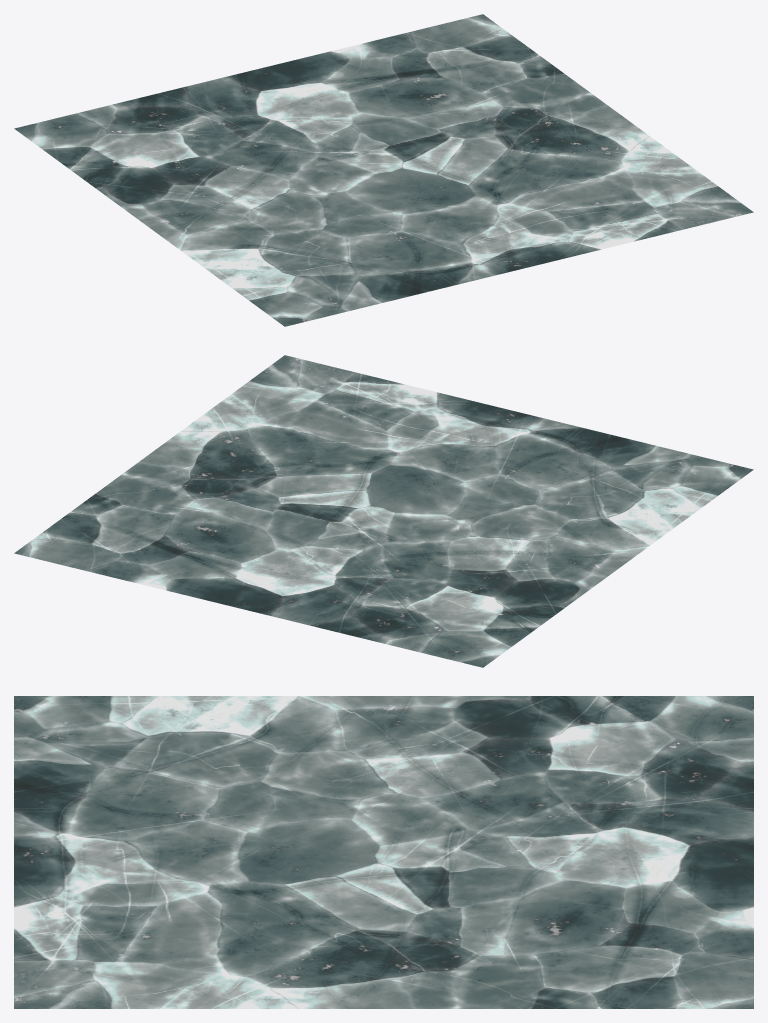
Rendered from wave.obj.
3 views of the same model, one above another, from view 1: azimuth 30°, elevation 25°; view 2: azimuth 150°, elevation 25°; view 3: azimuth 270°, elevation 25° (orthographic). The views are drawn at different scales.
Visible parts, largest first — view 1: ground; view 2: ground; view 3: ground.
Part boxes in pixels (box(x1,y1,x2,y2)): ground: box(14, 14, 753, 326); ground: box(14, 355, 753, 667); ground: box(14, 696, 753, 1008).
Size of the model in its own units: 20 by 0 by 20.
Materials: 1 (1 with a texture image).
